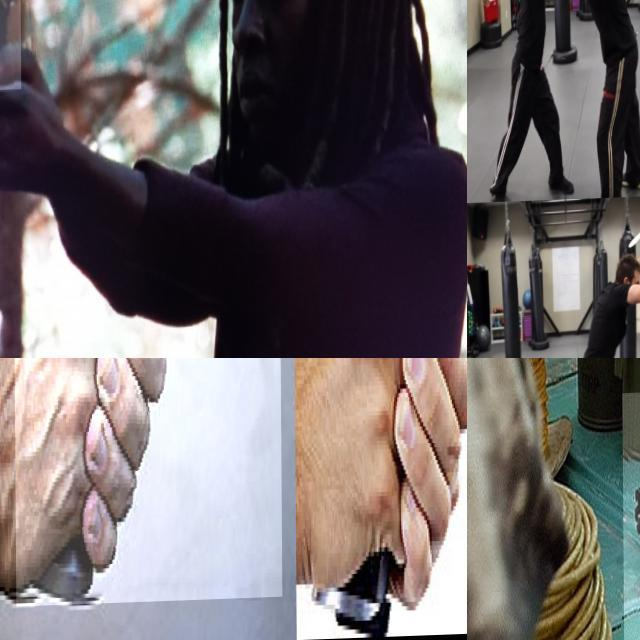-: (534, 0, 572, 20), (623, 220, 640, 253), (467, 0, 485, 18)
gun-knife-thesis - v11 Yolov5 augmented: (12, 358, 281, 637), (303, 358, 467, 631), (0, 0, 71, 97)
